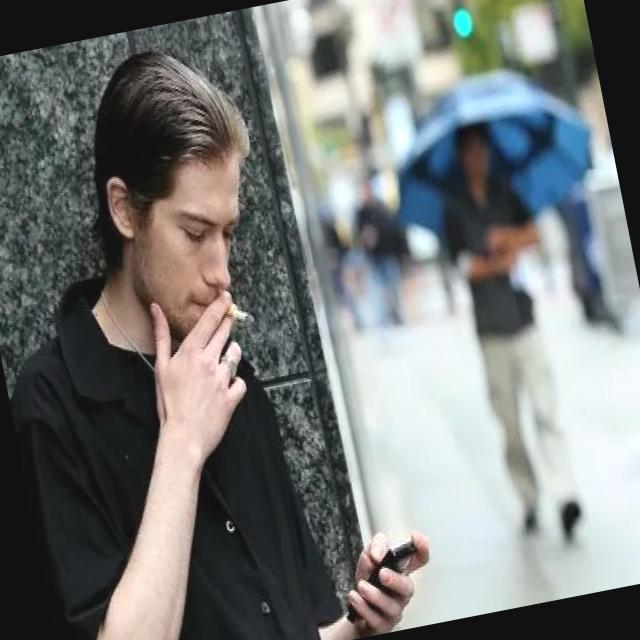smoke: (223, 302, 258, 332)
